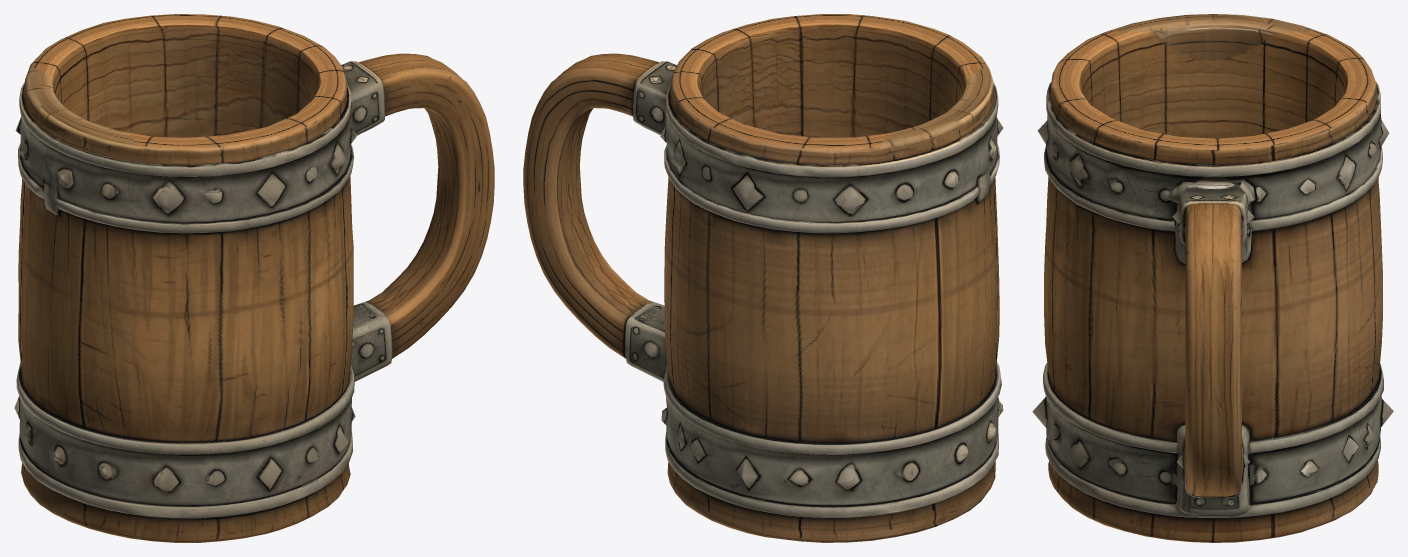
Rendered from mug.fbx.
The picture shows the model from 3 angles, left to right: view 1: azimuth 30°, elevation 25°; view 2: azimuth 150°, elevation 25°; view 3: azimuth 270°, elevation 25°; orthographic projection.
Parts seen in each view (by area): view 1: Mesh_0.002; view 2: Mesh_0.002; view 3: Mesh_0.002.
Boxes of the visible parts, bbox=[...] form: Mesh_0.002: bbox=[14, 14, 494, 542]; Mesh_0.002: bbox=[523, 14, 1003, 542]; Mesh_0.002: bbox=[1032, 14, 1393, 542].
Size of the model in its own units: 37.96 by 32.02 by 26.46.
1 material, 1 textured.
